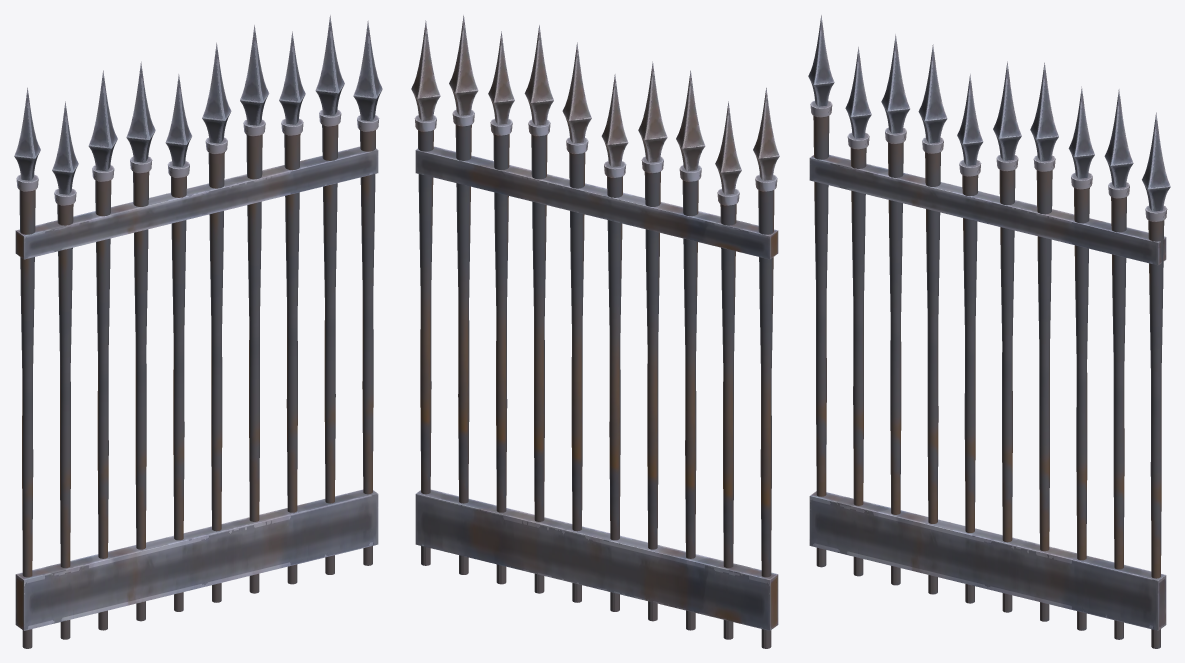
Rendered from Prop_MetalFence_Simple.glb.
3 views of the same model, side by side, from view 1: azimuth 30°, elevation 25°; view 2: azimuth 150°, elevation 25°; view 3: azimuth 330°, elevation 25° (orthographic).
Parts seen in each view (by area): view 1: Prop_MetalFence_Simple; view 2: Prop_MetalFence_Simple; view 3: Prop_MetalFence_Simple.
Boxes of the visible parts, box(x1,y1,x2,y2) form: Prop_MetalFence_Simple: box(14, 15, 382, 648); Prop_MetalFence_Simple: box(411, 15, 779, 648); Prop_MetalFence_Simple: box(808, 15, 1170, 648).
Bounding box in the file's own units: 1.95 × 2.87 × 0.1562.
1 material, 1 textured.
